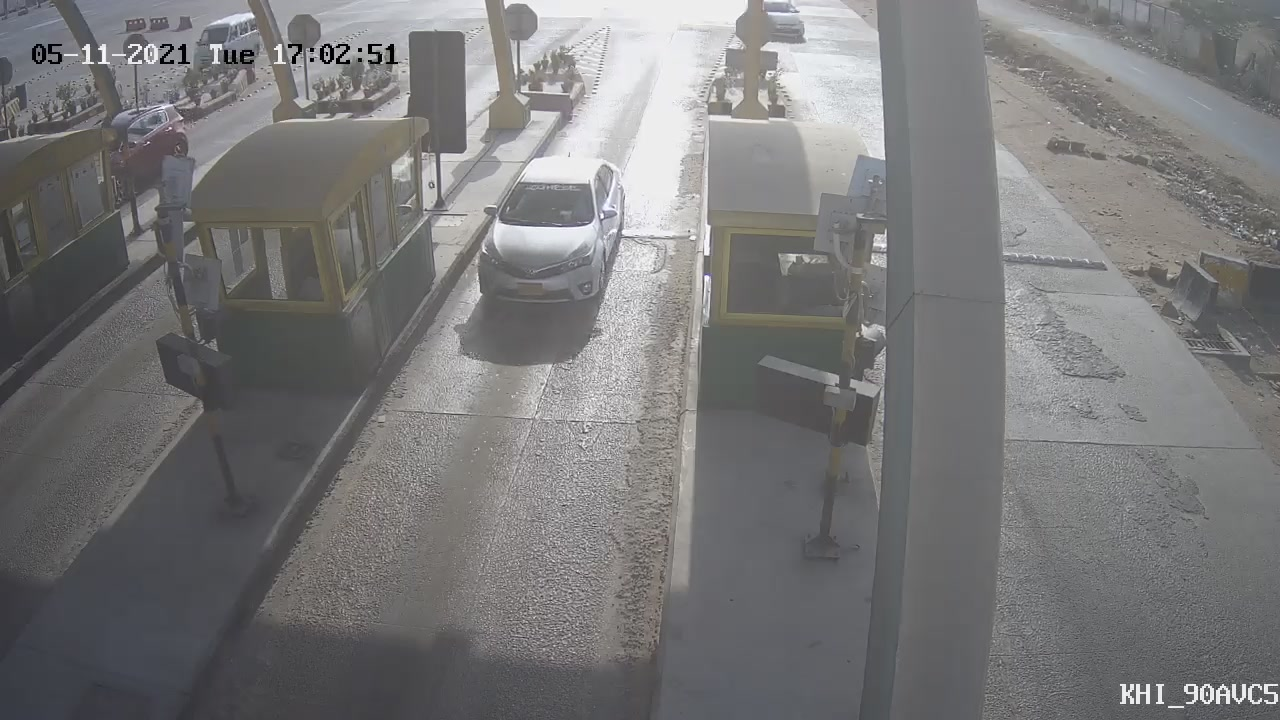F1: (448, 140, 647, 322)
